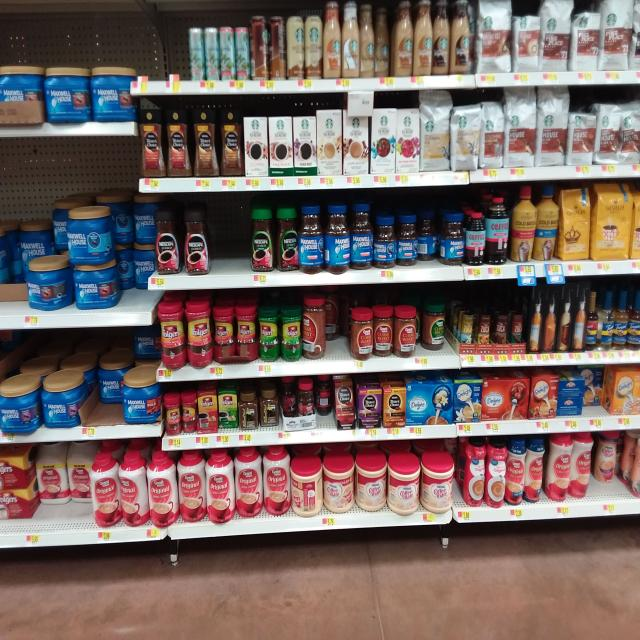empty: (137, 14, 190, 85), (207, 199, 249, 279)
